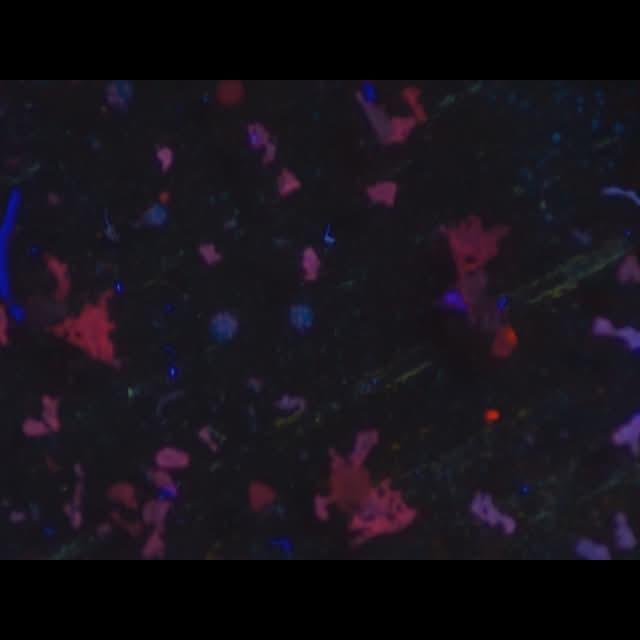Fragment: (315, 426, 417, 544)
